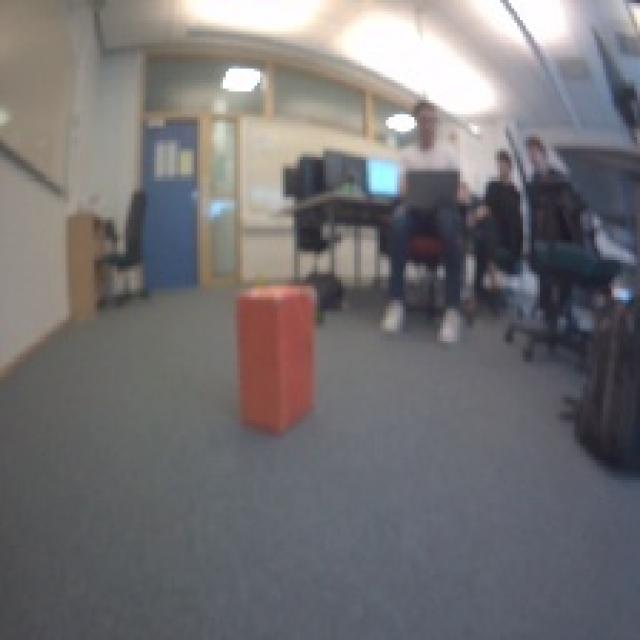target: (232, 280, 317, 434)
